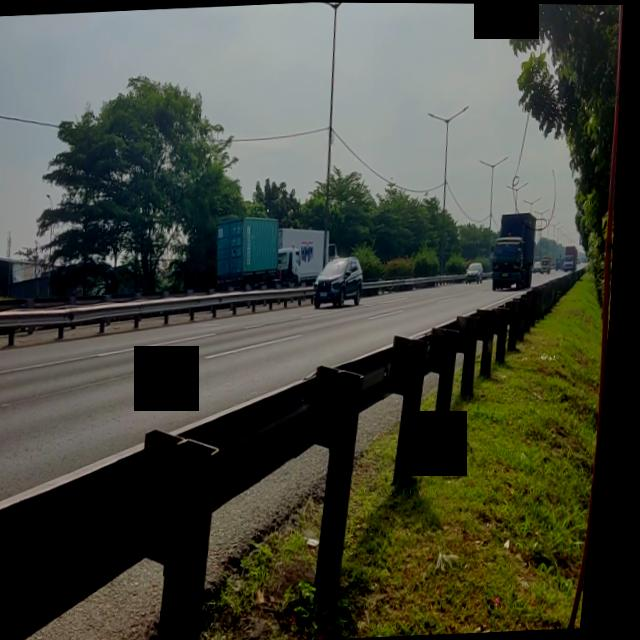Golongan I: (313, 250, 375, 315)
